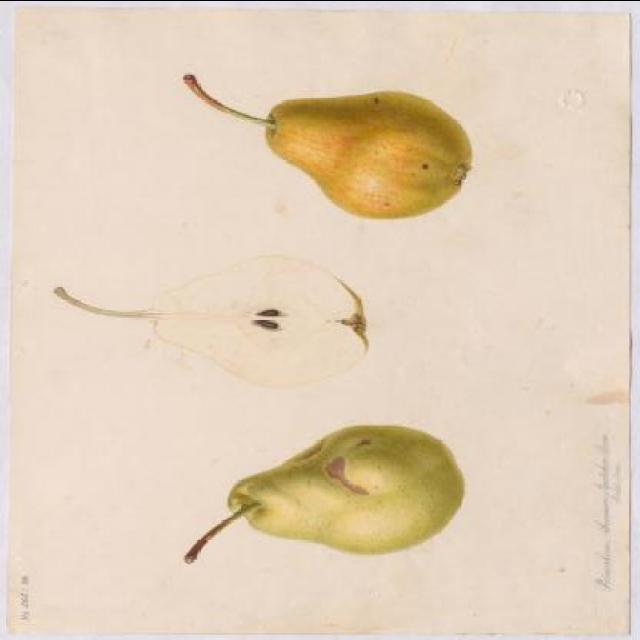Pear: (230, 424, 468, 556), (146, 256, 372, 386), (267, 89, 471, 220)
